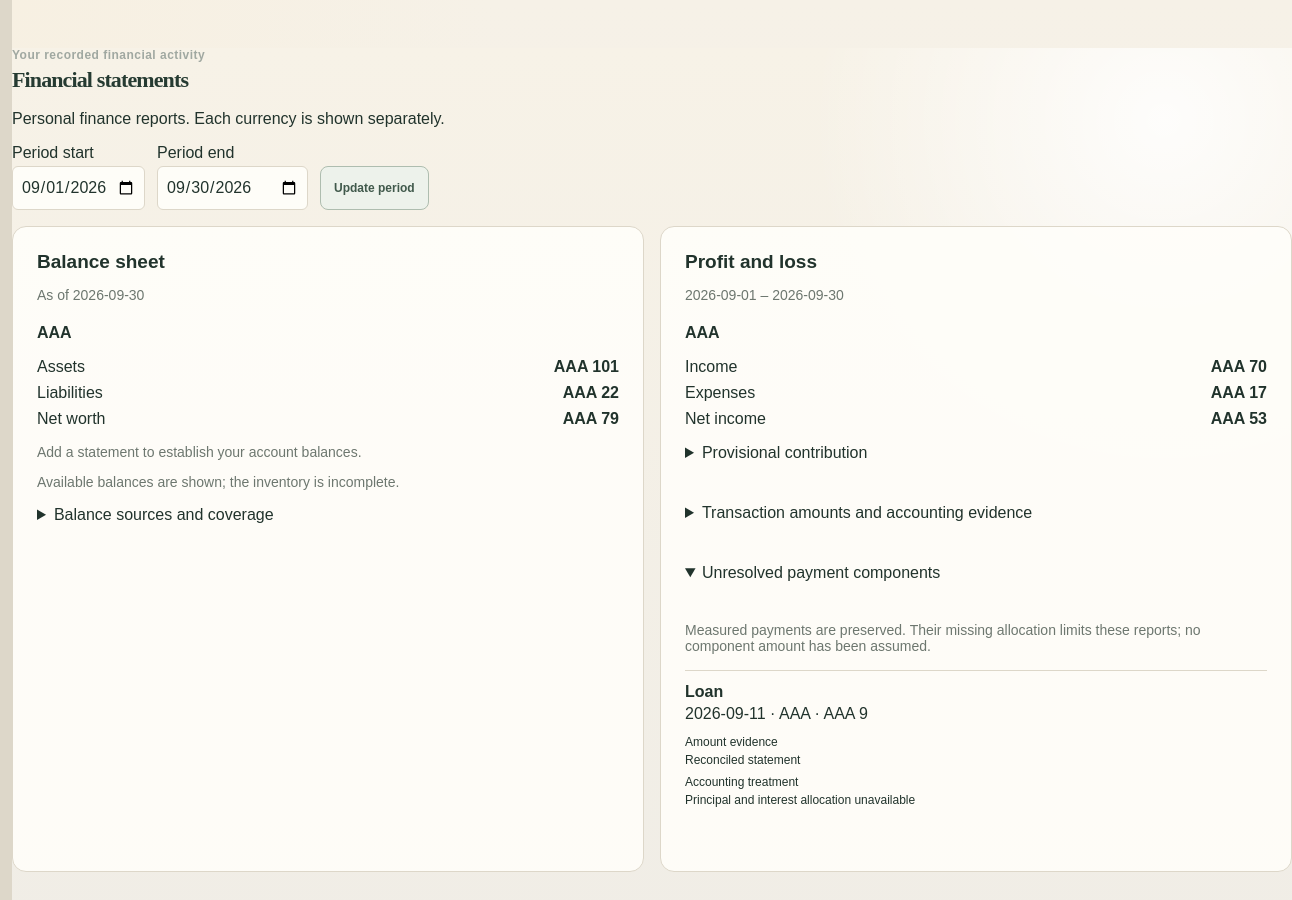
Test case: requests a selected period from the backend and keeps prior reports when the read fails
Type "2026-09-05" into the date field labelled "Period start" at (78, 188), box [12,166,145,210]
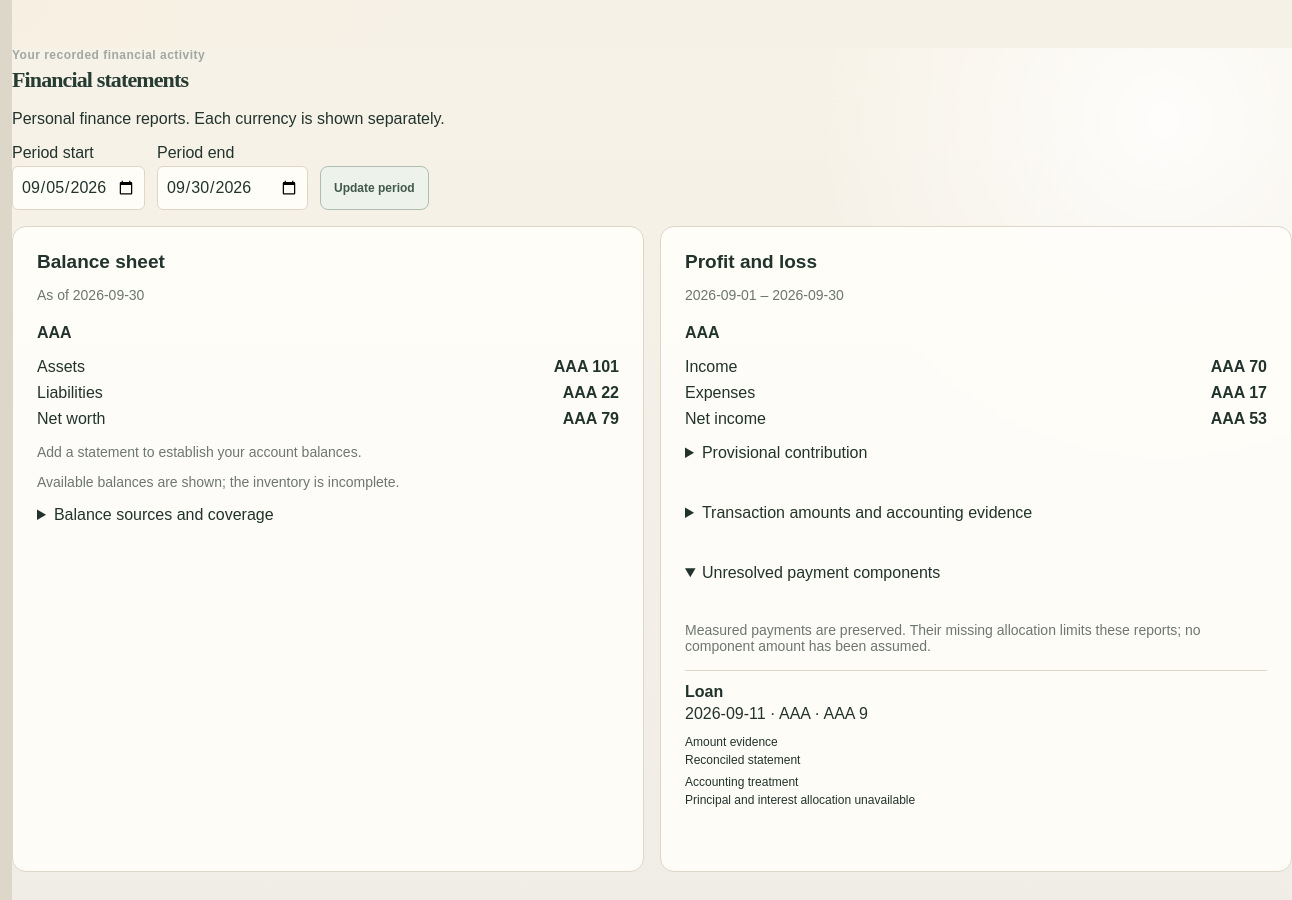
Click the button "Update period" at (374, 188), box [320,166,429,210]
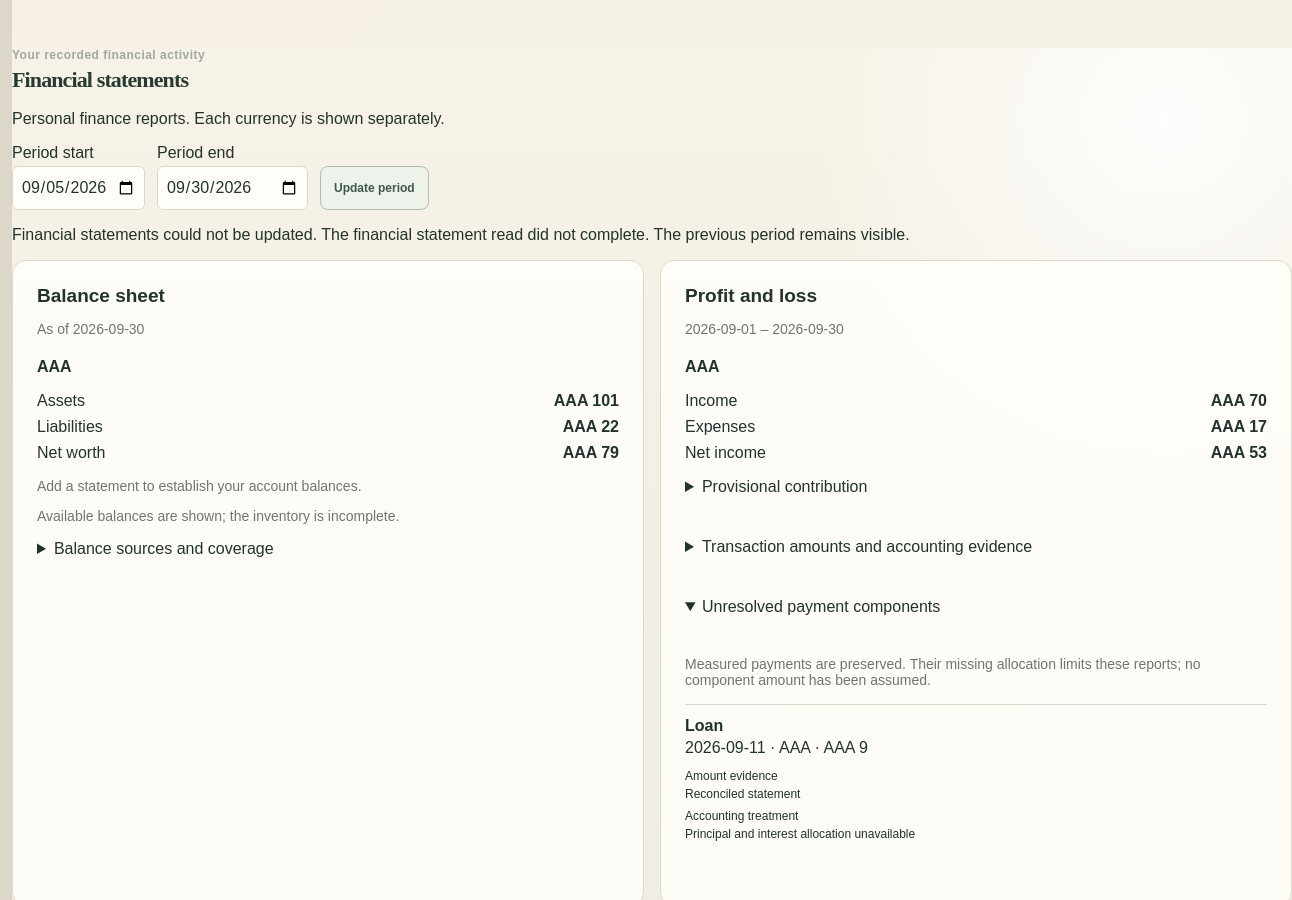
Check: the text "AAA 53" is shown, box [1211,444,1267,462]
Check: the message shows "could not be updated", box [12,226,910,243]
